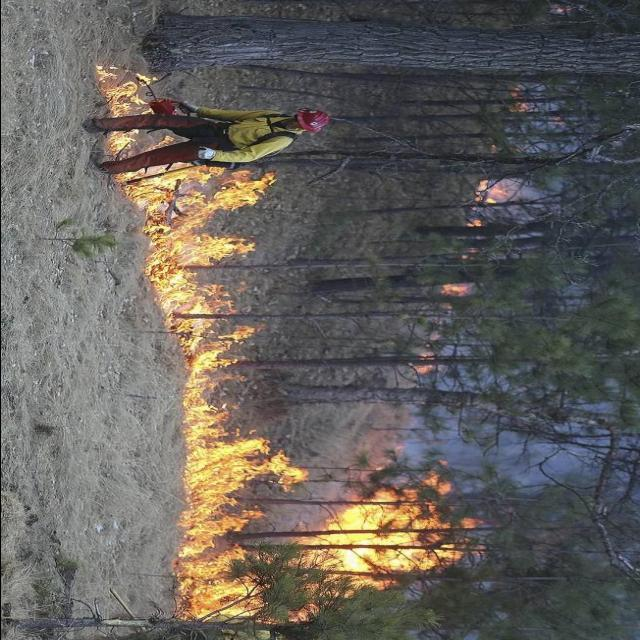Fire: (86, 61, 306, 433), (174, 437, 498, 630), (466, 180, 511, 230), (433, 280, 473, 300), (403, 352, 437, 375)
